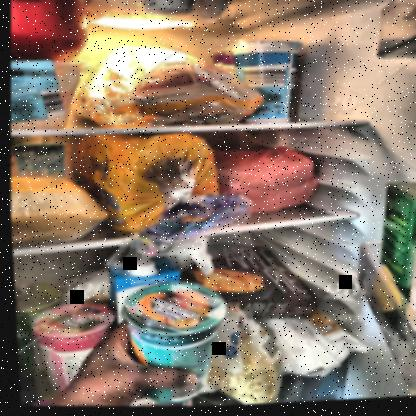yoghurt: (222, 37, 301, 128)
